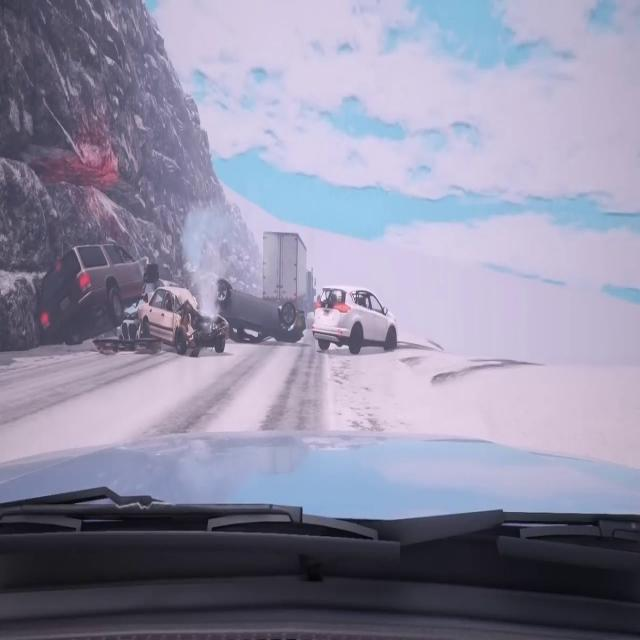accident: (33, 236, 230, 358)
